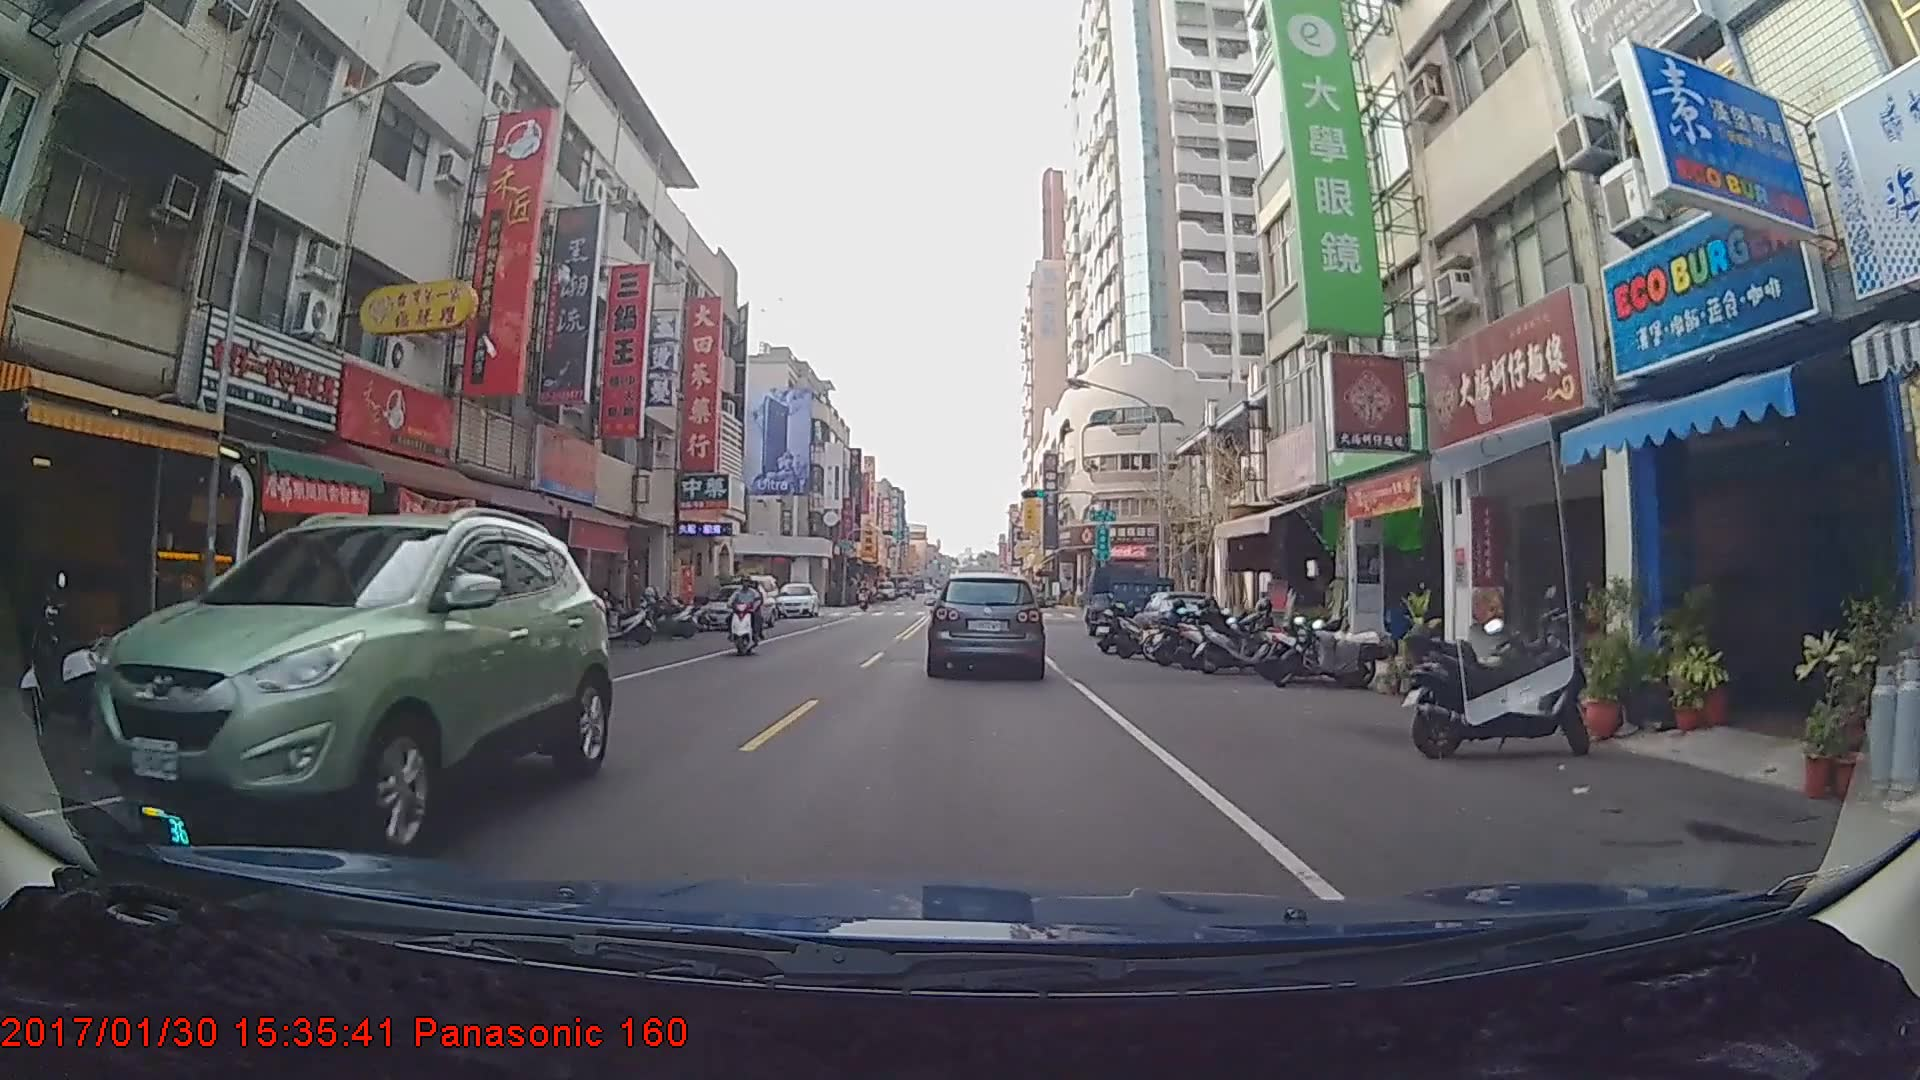rider: (725, 573, 773, 658)
vehicle: (86, 509, 613, 867), (929, 569, 1042, 678), (1083, 563, 1178, 639), (700, 584, 778, 634), (773, 583, 819, 621)
